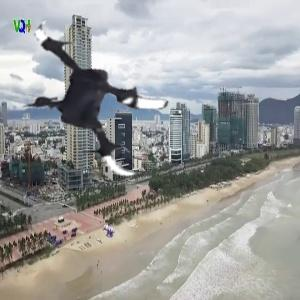drone: (10, 4, 194, 188)
